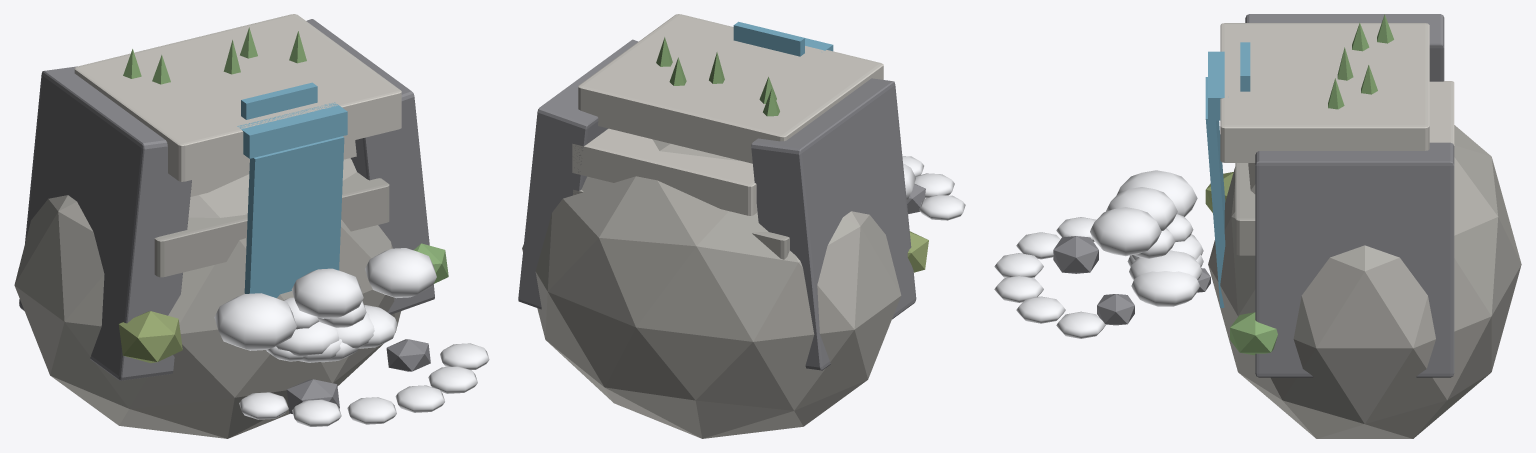
Rendered from naturalWonder.glb.
3 renders of one model, left to right at view 1: azimuth 30°, elevation 25°; view 2: azimuth 150°, elevation 25°; view 3: azimuth 270°, elevation 25°, orthographic. The views are drawn at different scales.
Visible parts, largest first — view 1: wf_cliff_main, wf_sideL, wf_ledge, wf_fall, wf_sideR, wf_ledge3, mist0, wf_fall_edge, mist3, mist1, wf_bush, wf_top_stream (+15 smaller); view 2: wf_cliff_main, wf_ledge, wf_sideL, wf_ledge2, wf_sideR, wf_top_stream, foam_r0, foam_r1, wf_ledge3, wf_bush; view 3: wf_cliff_main, wf_sideR, wf_ledge, wf_sideL, mist1, wf_fall, foam_i3, wf_ledge3, mist0, wf_ledge2, mist3, wf_bush2 (+12 smaller).
Part boxes in pixels (left/top/right/bottom): wf_cliff_main: left=14, top=158, right=401, bottom=438; wf_sideL: left=19, top=66, right=191, bottom=380; wf_ledge: left=74, top=14, right=401, bottom=181; wf_fall: left=244, top=136, right=344, bottom=298; wf_sideR: left=306, top=19, right=434, bottom=314; wf_ledge3: left=154, top=172, right=389, bottom=277; mist0: left=214, top=293, right=296, bottom=350; wf_fall_edge: left=237, top=102, right=347, bottom=158; mist3: left=291, top=268, right=363, bottom=318; mist1: left=365, top=248, right=436, bottom=298; wf_bush: left=118, top=311, right=182, bottom=363; wf_top_stream: left=241, top=82, right=317, bottom=119; wf_cliff_main: left=522, top=139, right=901, bottom=438; wf_ledge: left=578, top=14, right=883, bottom=163; wf_sideL: left=751, top=78, right=916, bottom=370; wf_ledge2: left=572, top=128, right=757, bottom=215; wf_sideR: left=518, top=39, right=638, bottom=309; wf_top_stream: left=733, top=21, right=804, bottom=56; foam_r0: left=919, top=195, right=965, bottom=220; foam_r1: left=914, top=173, right=954, bottom=198; wf_ledge3: left=573, top=189, right=789, bottom=259; wf_bush: left=907, top=231, right=928, bottom=272; wf_cliff_main: left=1208, top=125, right=1521, bottom=438; wf_sideR: left=1255, top=142, right=1454, bottom=377; wf_ledge: left=1220, top=23, right=1429, bottom=162; wf_sideL: left=1245, top=14, right=1444, bottom=81; mist1: left=1090, top=207, right=1161, bottom=256; wf_fall: left=1205, top=77, right=1225, bottom=307; foam_i3: left=1131, top=271, right=1199, bottom=306; wf_ledge3: left=1235, top=163, right=1255, bottom=255; mist0: left=1116, top=170, right=1197, bottom=216; wf_ledge2: left=1429, top=81, right=1454, bottom=145; mist3: left=1106, top=187, right=1177, bottom=230; wf_bush2: left=1230, top=312, right=1277, bottom=355.
Bounding box in the file's own units: 0.7989 × 0.8445 × 1.06.
